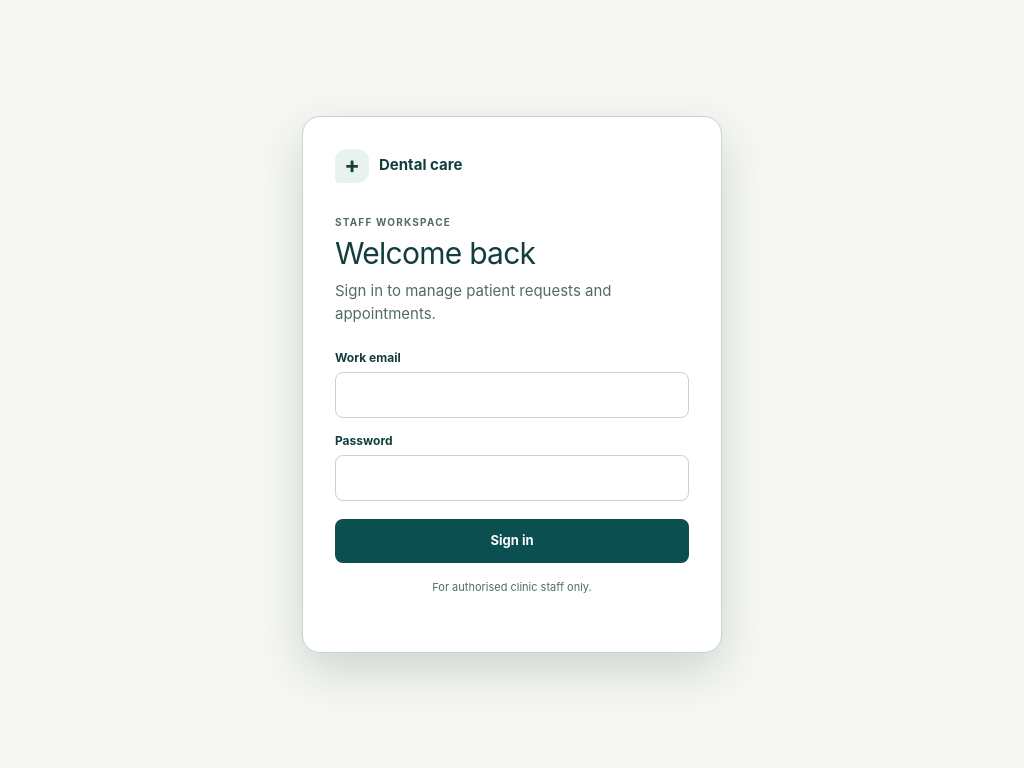
Test case: staff CRM actions › opens and saves persisted public site settings
Type "alex@example.test" into the field labelled "Work email". click: (512, 395)
box: x1=335 y1=372 x2=689 y2=418
Type "correct-horse" into the password field labelled "Password". click: (512, 478)
box: x1=335 y1=455 x2=689 y2=501
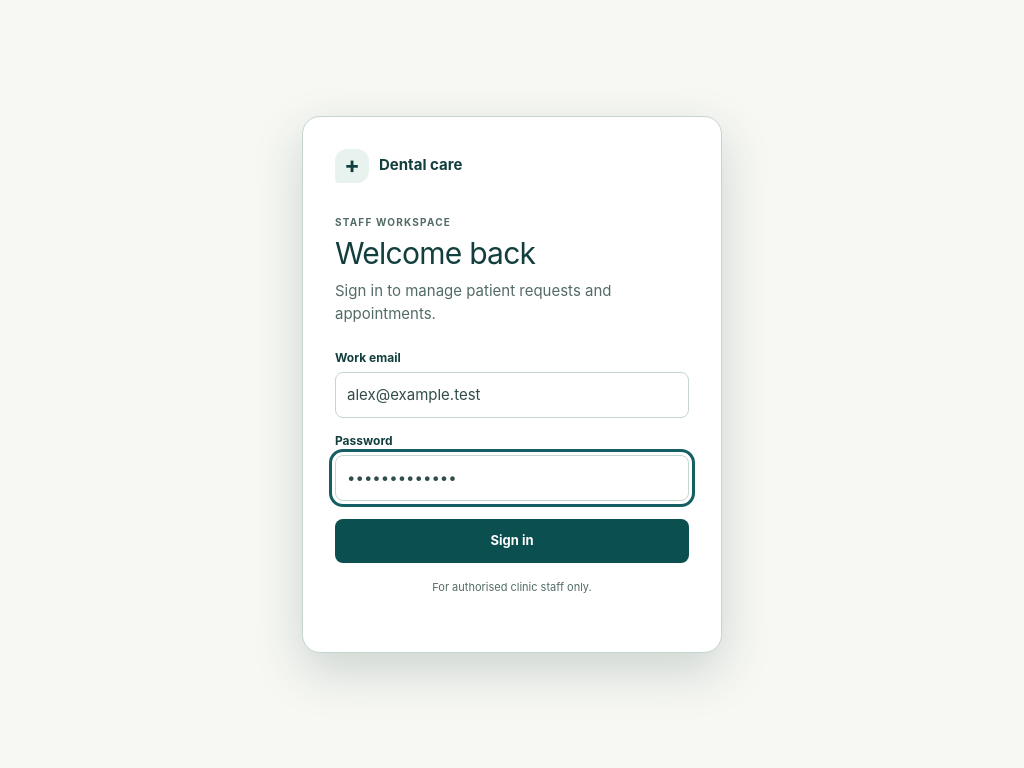
Click the button "Sign in". click: (512, 541)
box: x1=335 y1=519 x2=689 y2=563
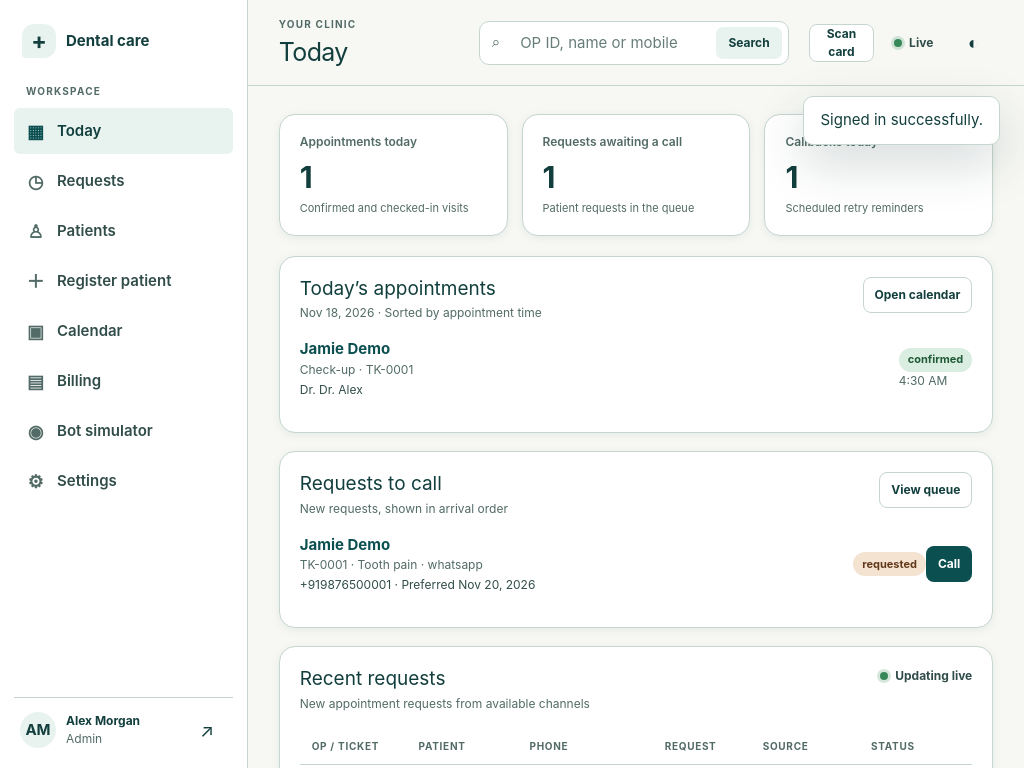
Result: the heading "Today" is shown at x1=279 y1=37 x2=348 y2=67
Click the button "⚙ Settings". click: (124, 481)
box: x1=14 y1=458 x2=233 y2=504
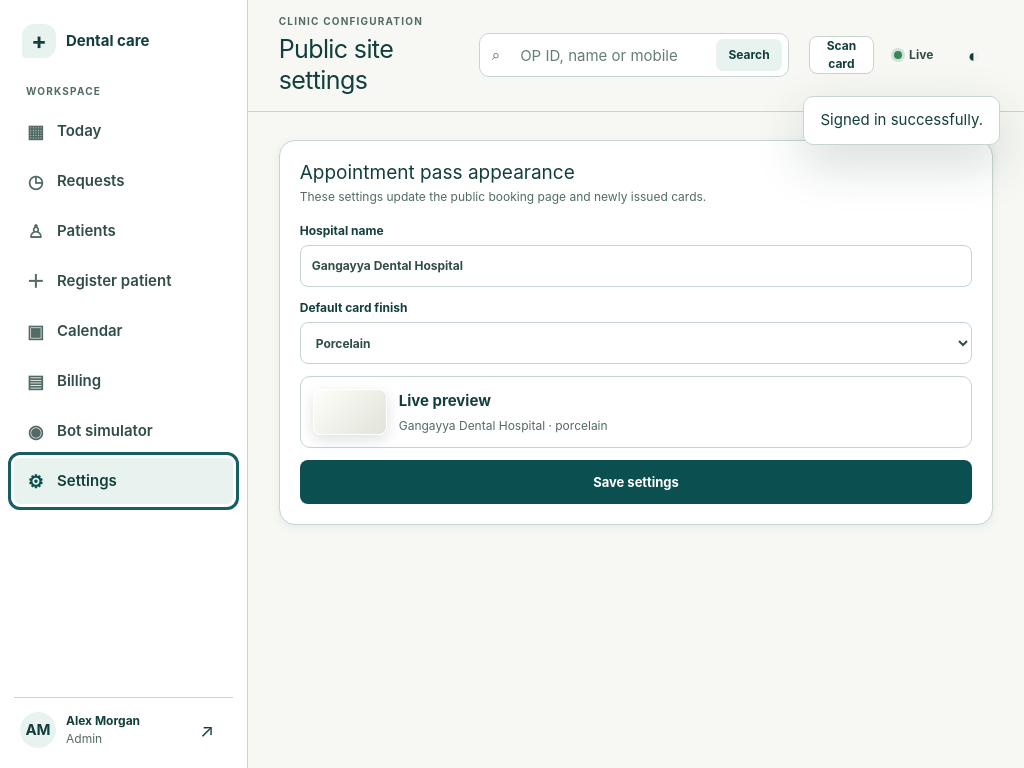
Result: the heading "Appointment pass appearance" is shown at x1=300 y1=160 x2=575 y2=184
Replace the text in the field labelled "Hospital name" with "Gangayya Dental Hospital, Marlapur". click: (636, 266)
box: x1=300 y1=245 x2=972 y2=287
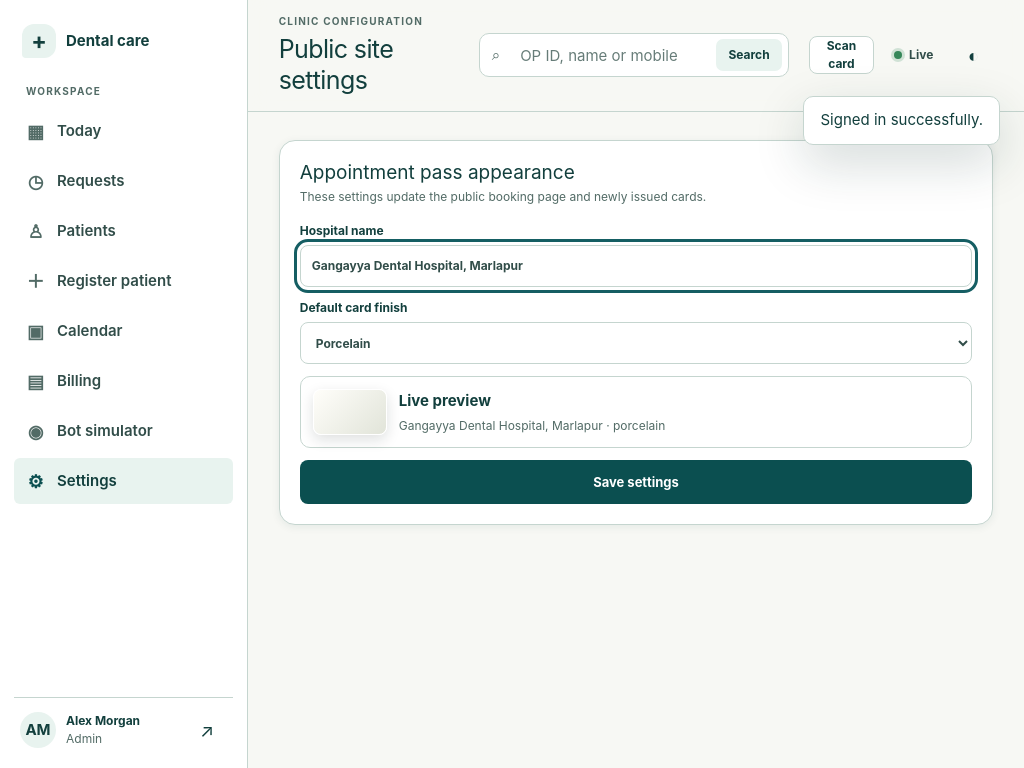
Select "Sage" in the dropdown labelled "Default card finish". click: (636, 343)
box: x1=300 y1=322 x2=972 y2=364
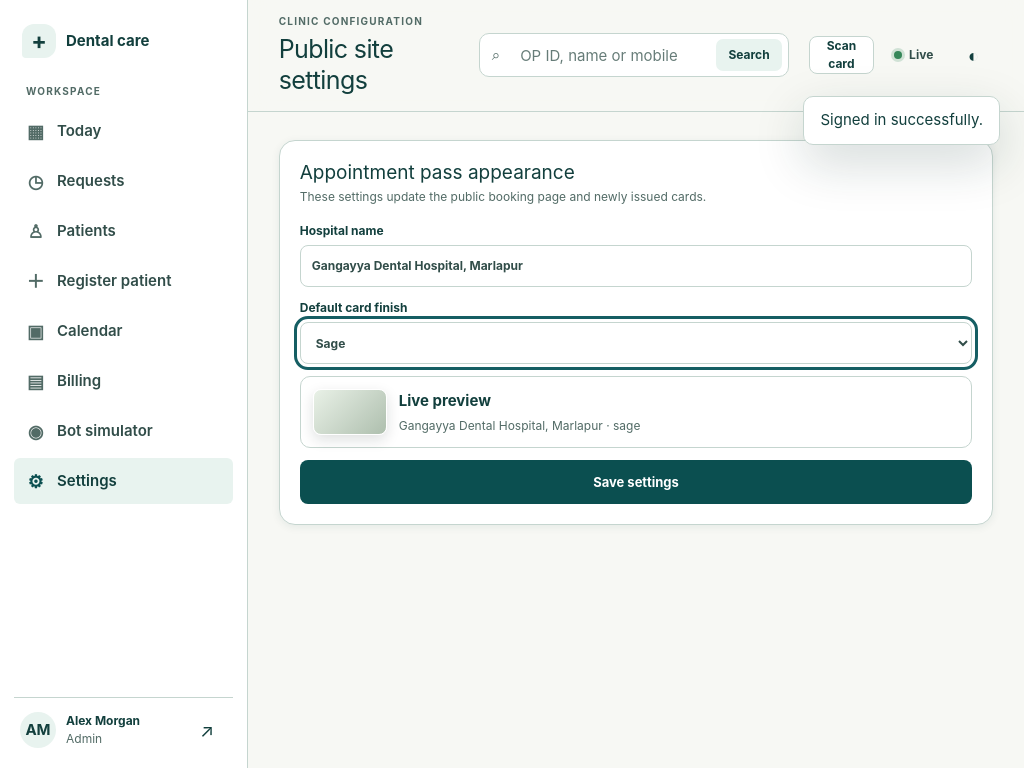
Click the button "Save settings". click: (636, 482)
box: x1=300 y1=460 x2=972 y2=504
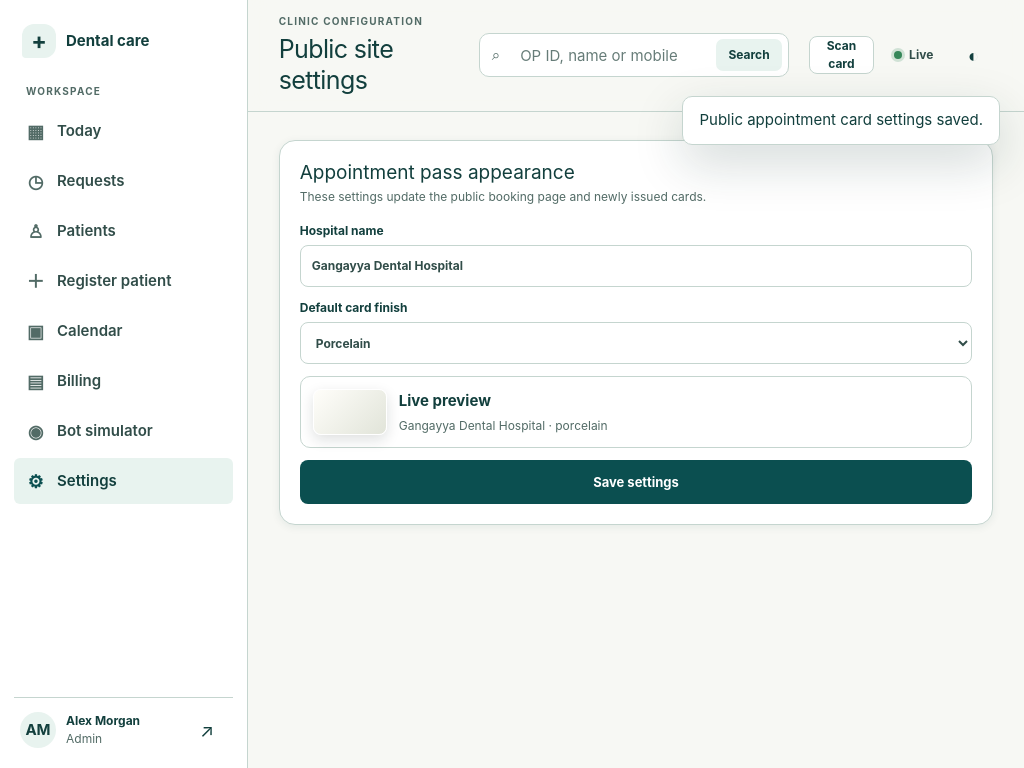
Result: the text "Public appointment card settings saved." is shown at x1=682 y1=96 x2=1000 y2=144
